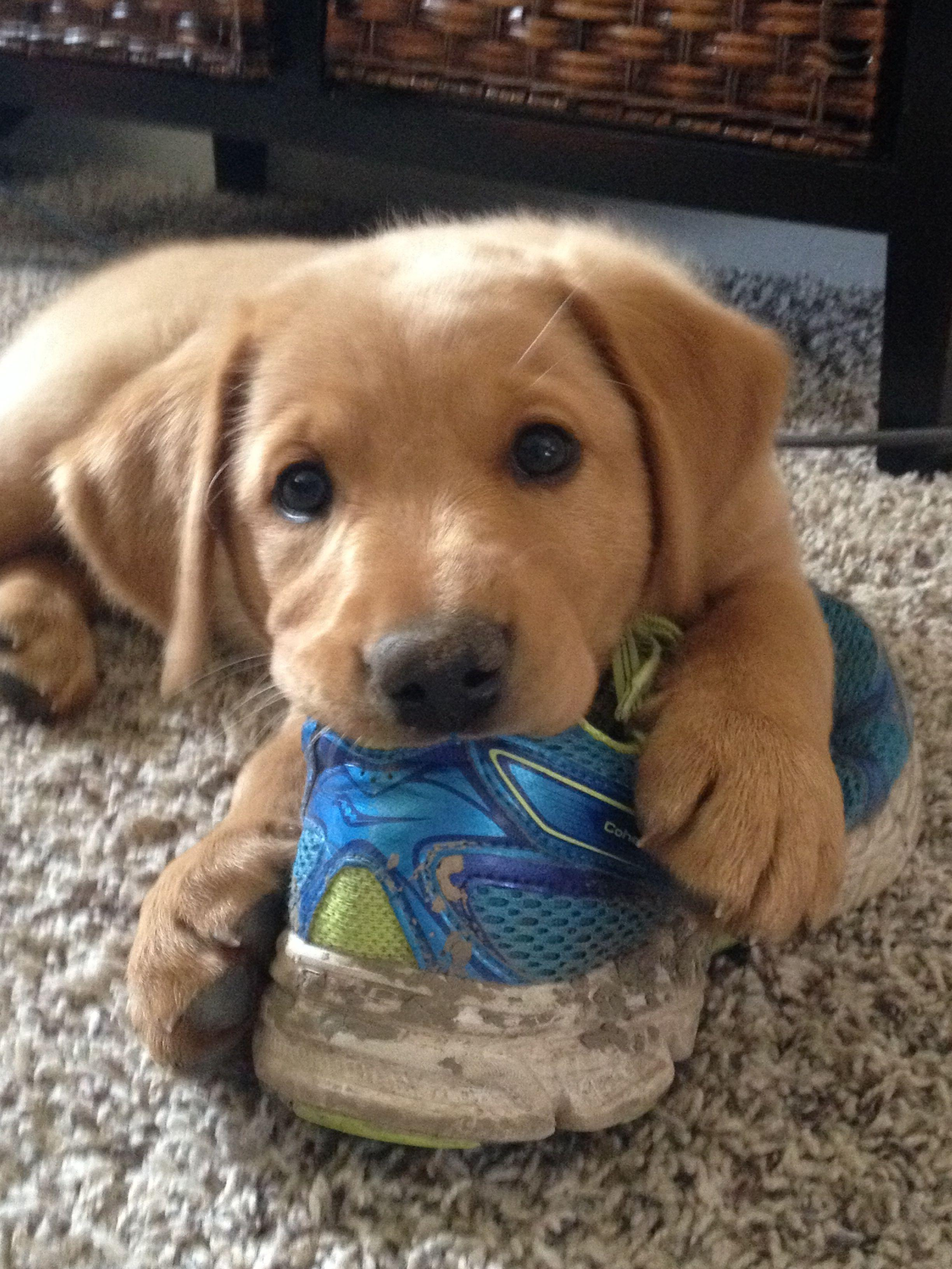puppy-dog: (0, 209, 849, 1079)
